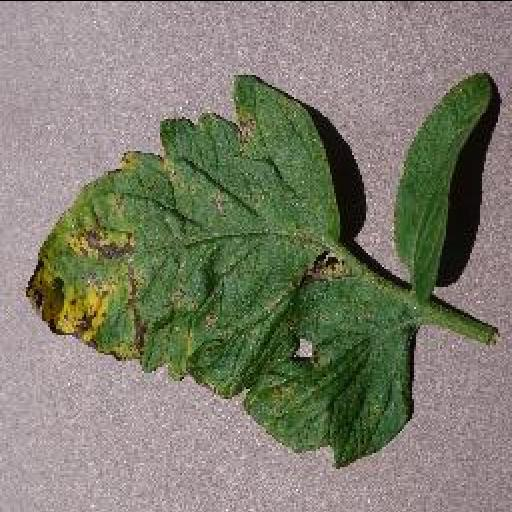disease_tomato: (28, 64, 416, 461)
